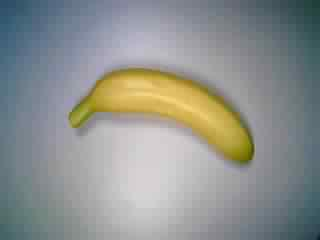banana: (62, 65, 257, 167)
